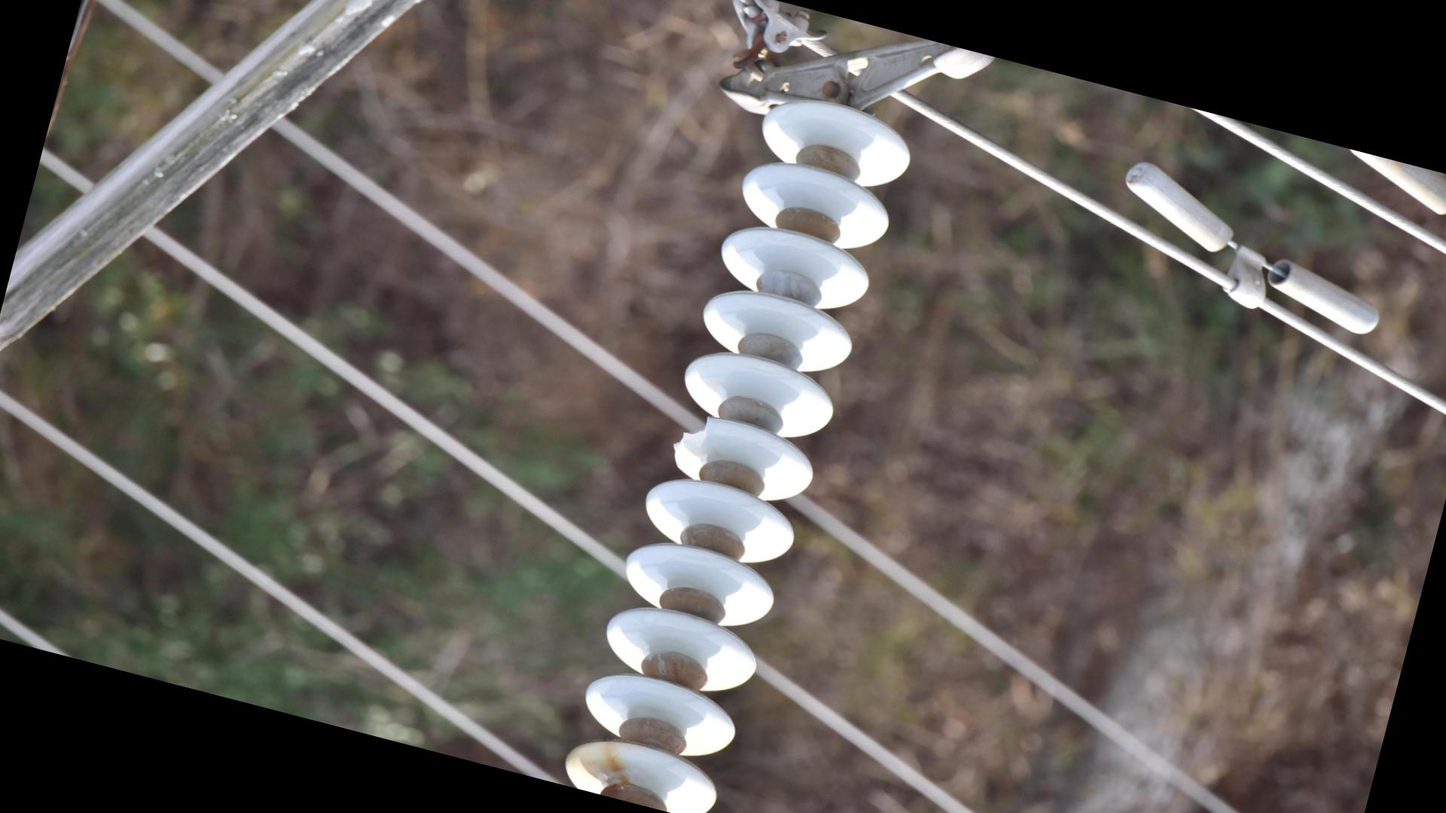damper: (1094, 150, 1410, 349), (1315, 118, 1446, 299)
